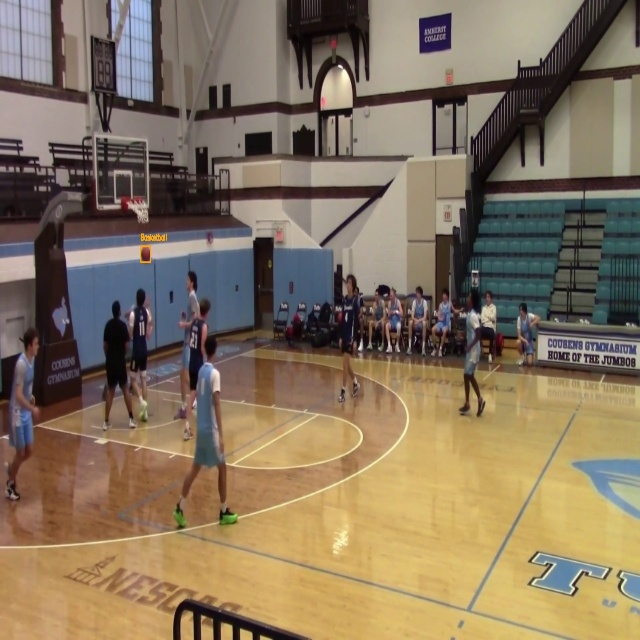Basketball: (141, 246, 151, 262)
